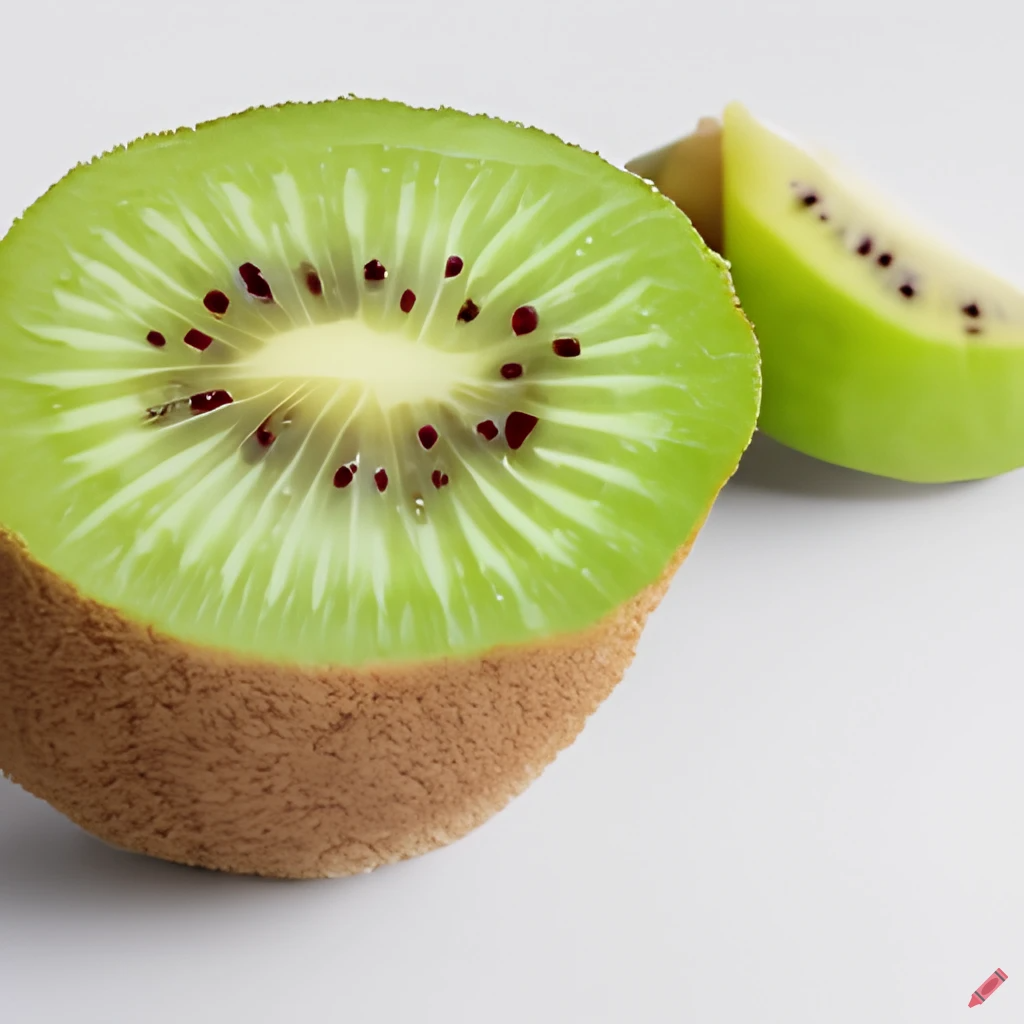Kiwi: (0, 77, 762, 946)
